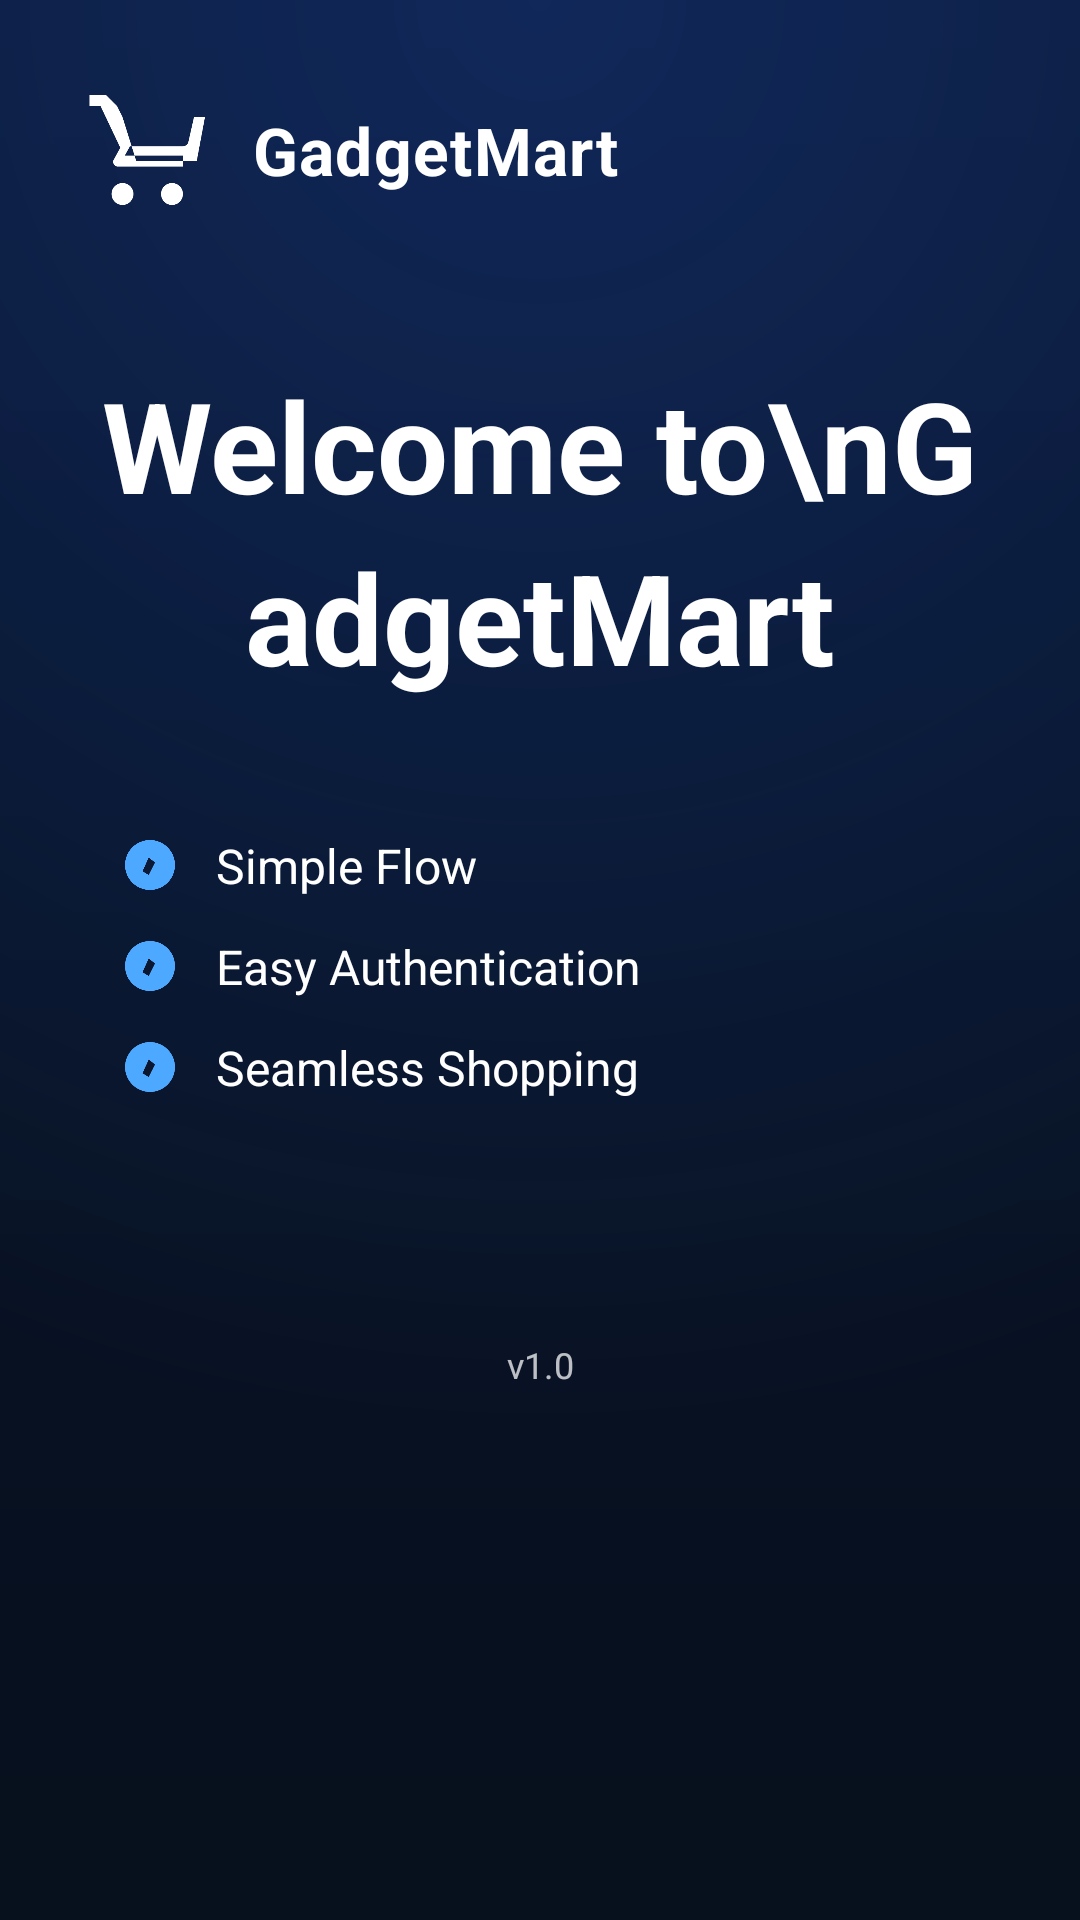

Locate icon controls on the screen. Image size 1080*1920, boxes as (x1, y1, x2, y2).
cart: (89, 95, 205, 205)
explore: (125, 840, 175, 890), (125, 941, 175, 991), (125, 1042, 175, 1092)
